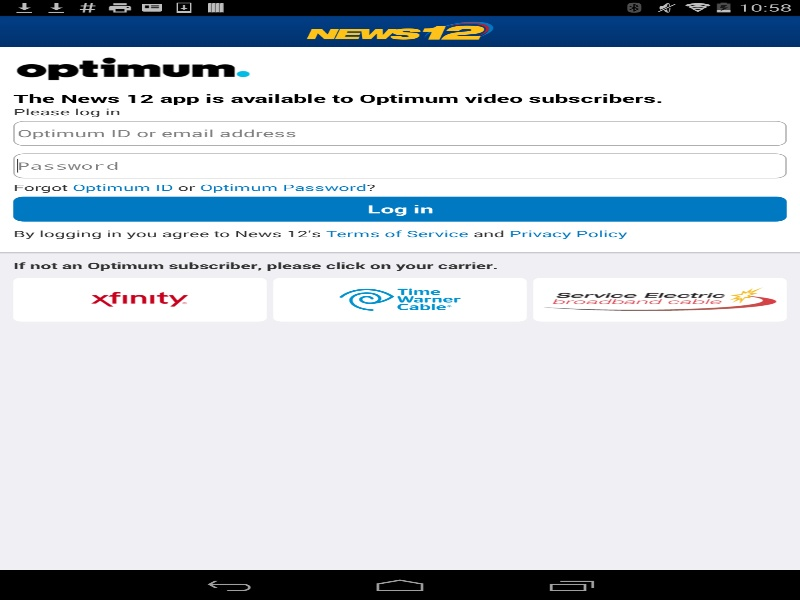Button: (13, 196, 786, 221), (13, 277, 266, 321), (273, 277, 526, 321), (533, 277, 786, 321)
Input: (13, 120, 786, 145), (13, 153, 786, 178)
